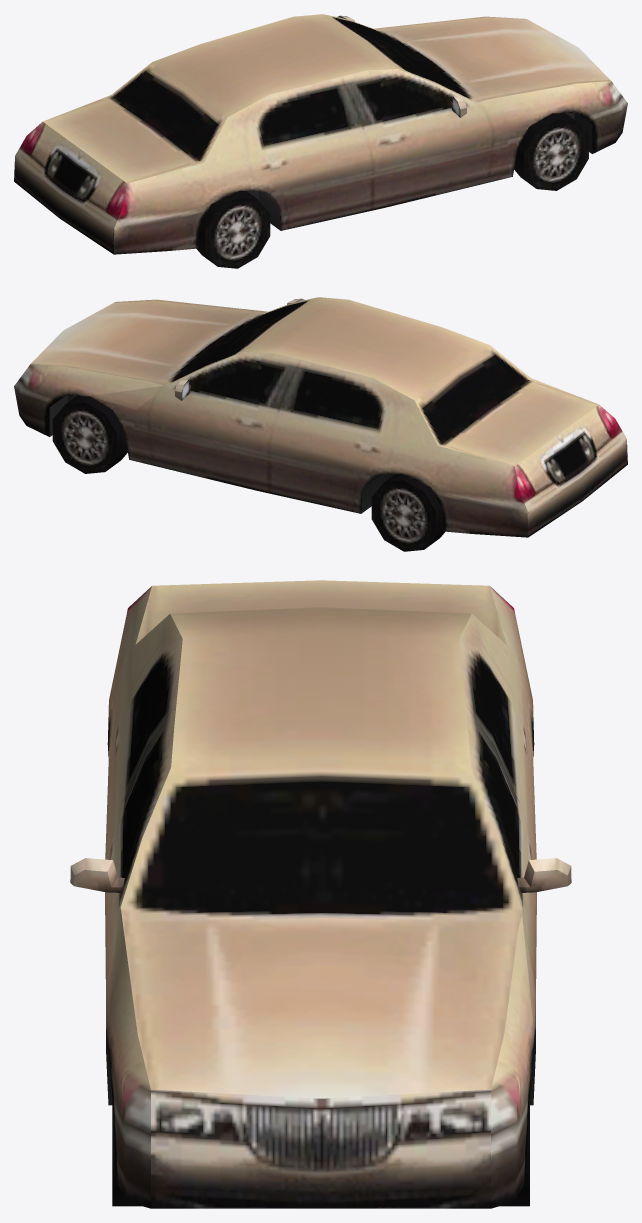
File: B_CAR.glb
3 views of the same model, one above another, from view 1: azimuth 30°, elevation 25°; view 2: azimuth 150°, elevation 25°; view 3: azimuth 270°, elevation 25° (orthographic). The views are drawn at different scales.
Parts seen in each view (by area): view 1: Object_2; view 2: Object_2; view 3: Object_2.
Part boxes in pixels (bbox=[...]): Object_2: bbox=[14, 14, 627, 268]; Object_2: bbox=[14, 297, 627, 551]; Object_2: bbox=[70, 580, 571, 1208].
Size of the model in its own units: 17.87 by 4.94 by 7.25.
Materials: 1 (1 with a texture image).
